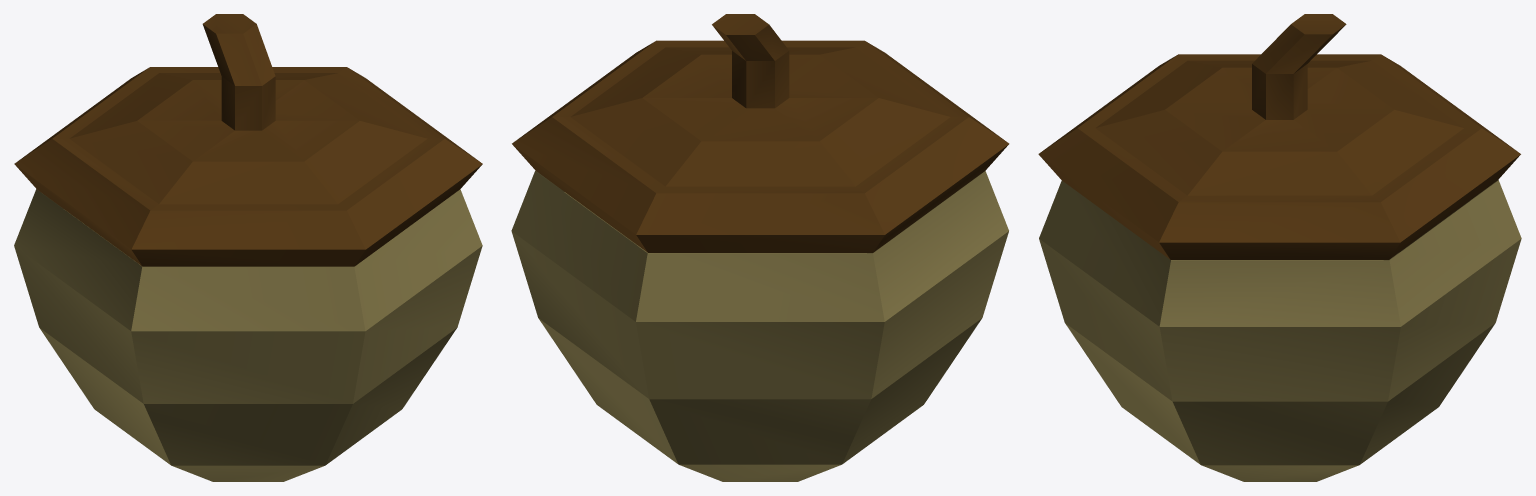
File: Acorn.fbx
3 renders of one model, left to right at view 1: azimuth 30°, elevation 25°; view 2: azimuth 150°, elevation 25°; view 3: azimuth 270°, elevation 25°, orthographic. The views are drawn at different scales.
Visible parts, largest first — view 1: Cube, Cube.001; view 2: Cube, Cube.001; view 3: Cube, Cube.001.
Boxes of the visible parts, x1,y1,x2,y2 form: Cube: (14, 189, 482, 481); Cube.001: (14, 14, 482, 266); Cube: (511, 170, 1008, 481); Cube.001: (512, 14, 1009, 252); Cube: (1039, 180, 1521, 481); Cube.001: (1038, 14, 1520, 259).
Size of the model in its own units: 300 by 341 by 346.
